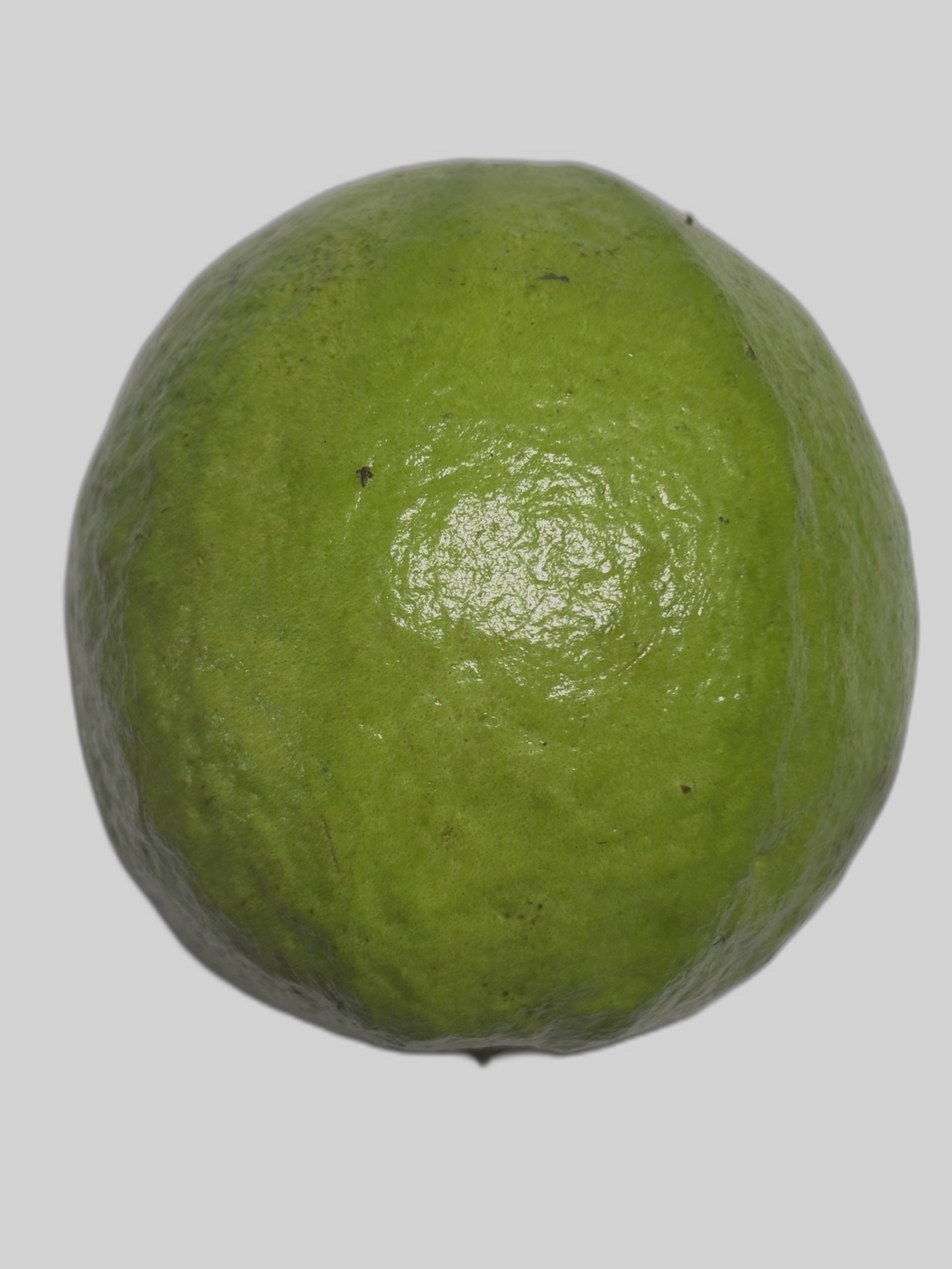guava: (37, 80, 863, 985)
